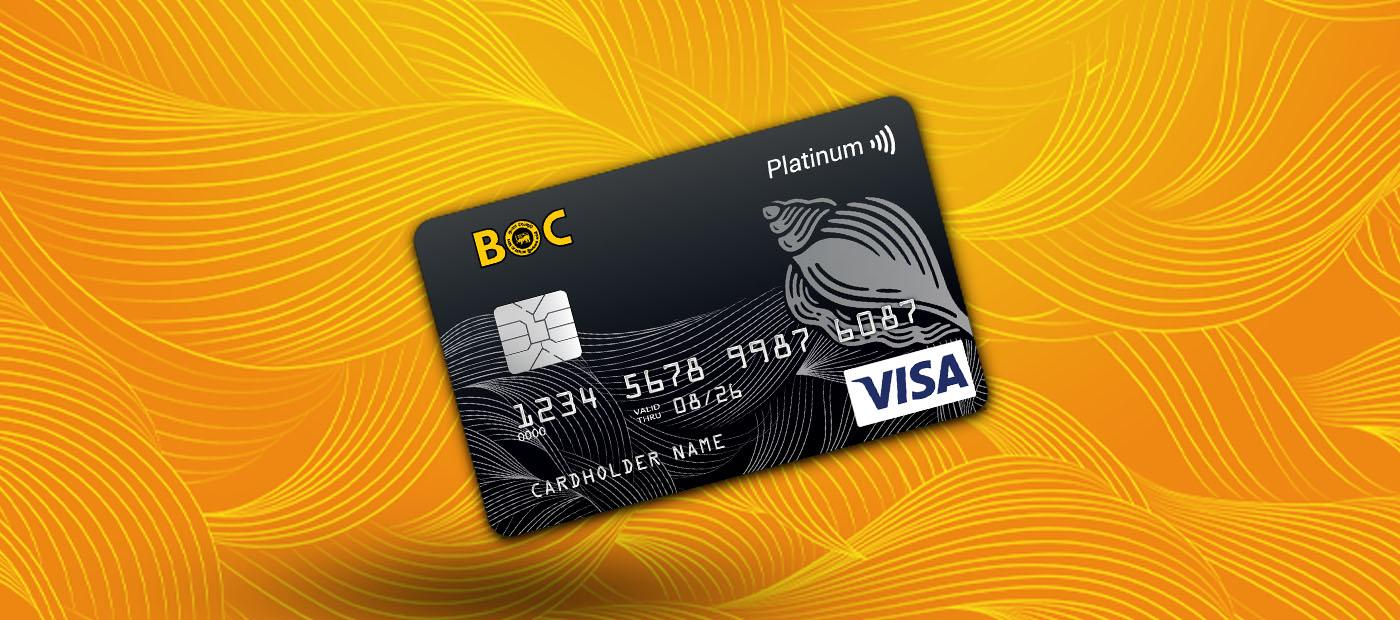Credit_card: (415, 97, 987, 536)
